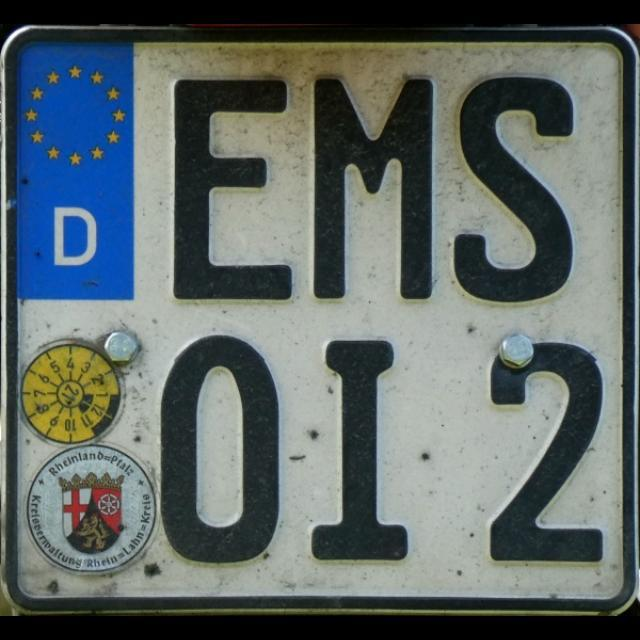license-plates: (2, 26, 639, 614)
